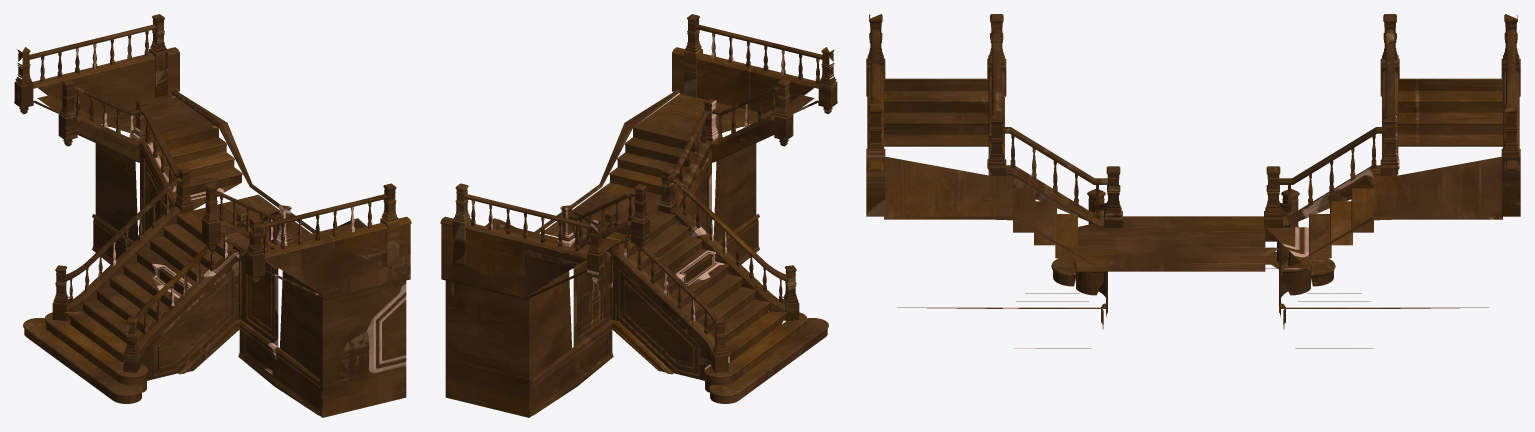
Rendered from escada.glb.
3 views of the same model, side by side, from view 1: azimuth 30°, elevation 25°; view 2: azimuth 150°, elevation 25°; view 3: azimuth 270°, elevation 25° (orthographic). The views are drawn at different scales.
Parts seen in each view (by area): view 1: model_obj; view 2: model_obj; view 3: model_obj.
Part boxes in pixels (x1,y1,x2,y2): model_obj: (14, 14, 411, 417); model_obj: (440, 14, 837, 417); model_obj: (866, 14, 1520, 348).
Size of the model in its own units: 5.72 by 5.32 by 10.55.
Materials: 2 (2 with a texture image).
